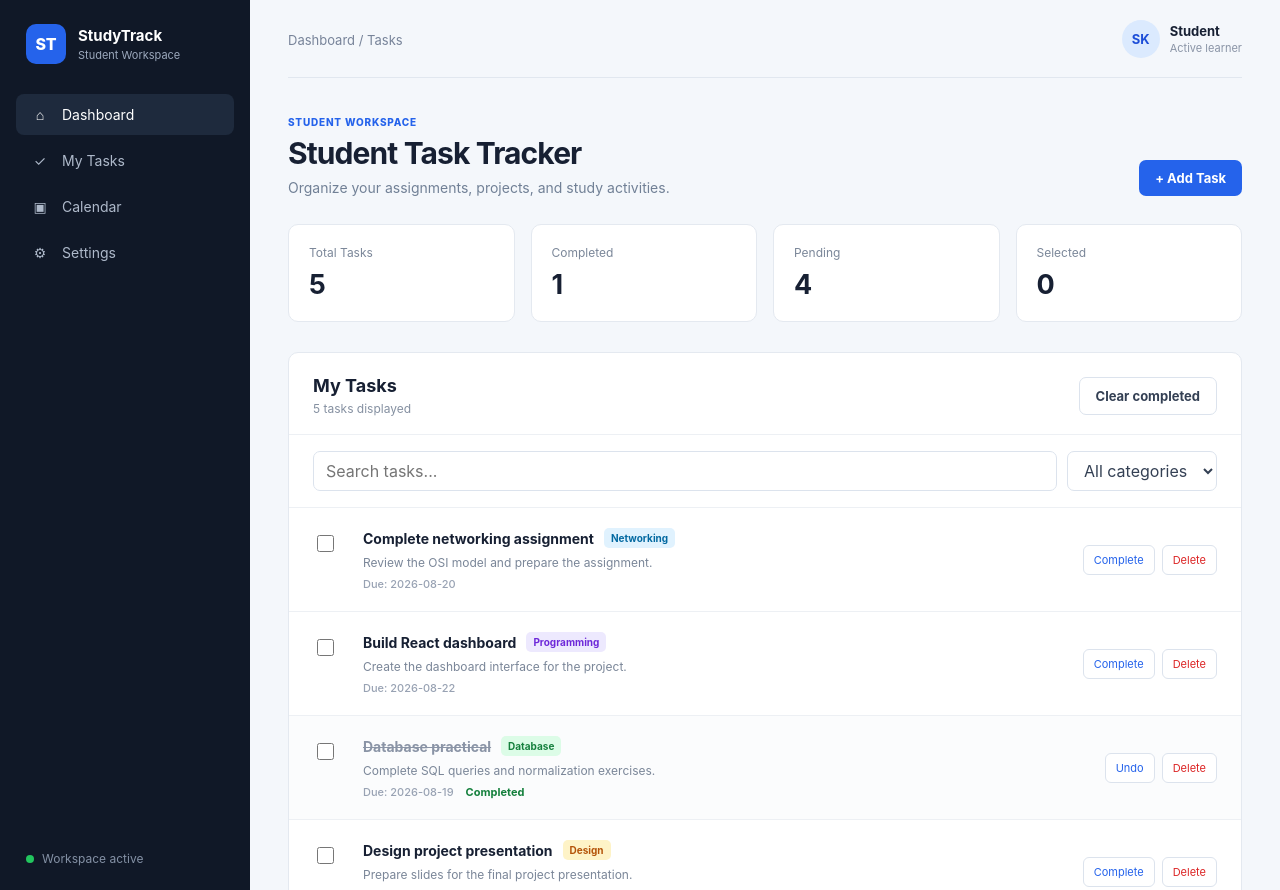
Test: Student Task Tracker › selection persists after clearing a filter
Click the checkbox named "Select Complete networking assignment": {"x": 326, "y": 544} x1=317 y1=535 x2=334 y2=552
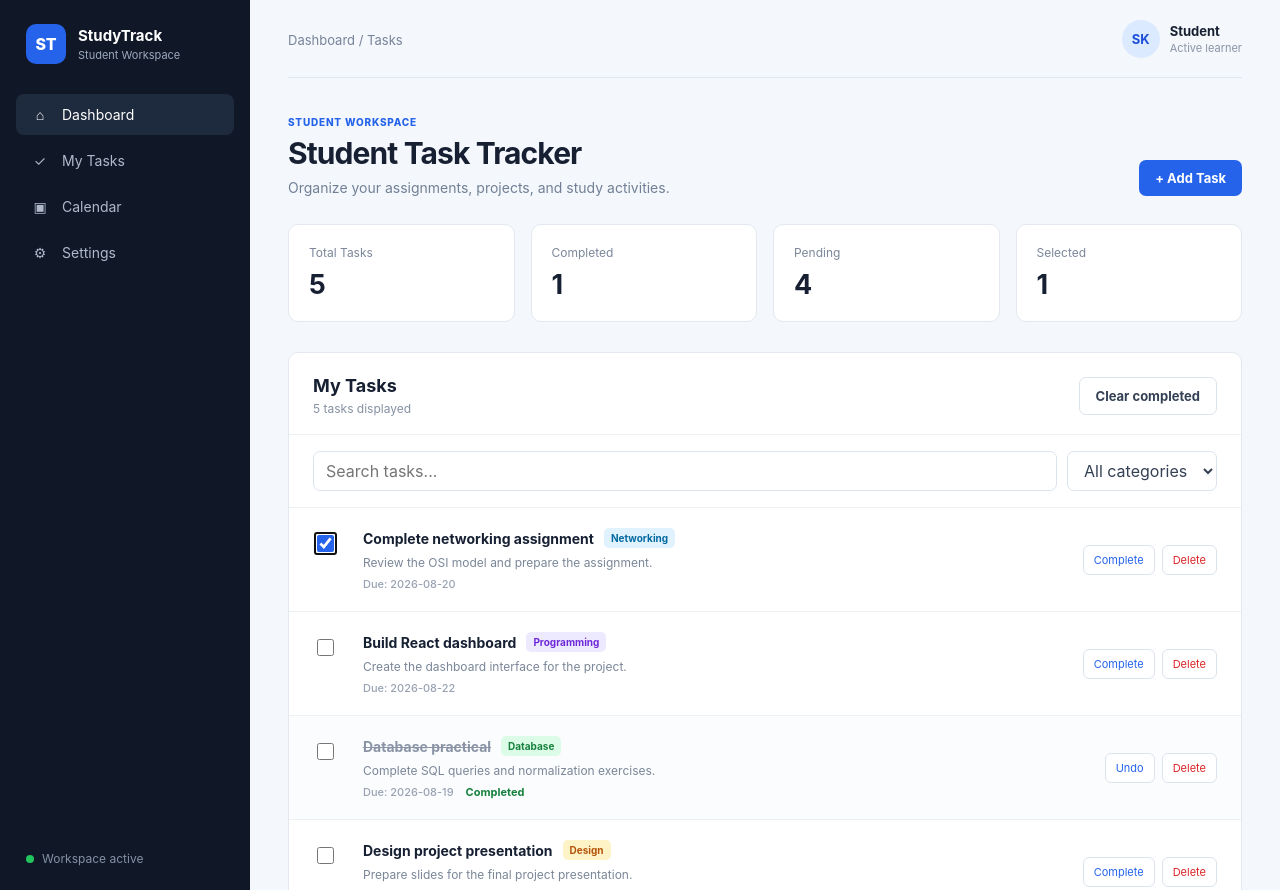
Check: the checkbox named "Select Complete networking assignment" is checked, box x1=317 y1=535 x2=334 y2=552
In the search field labelled "Search tasks": {"x": 685, "y": 471} x1=313 y1=451 x2=1057 y2=491, type "database"
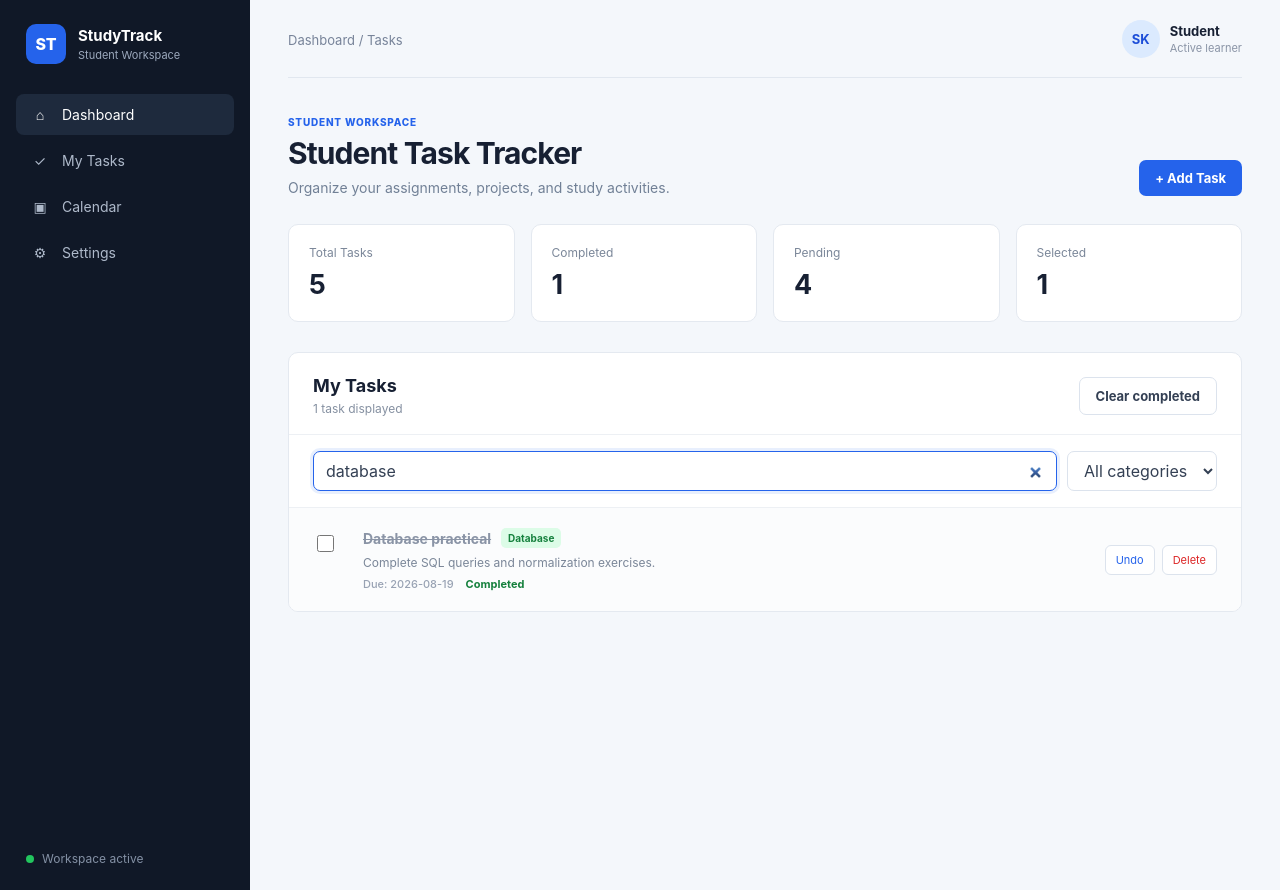
Check: the heading "Complete networking assignment" is gone
Clear the search field named "Search tasks": {"x": 685, "y": 471} x1=313 y1=451 x2=1057 y2=491
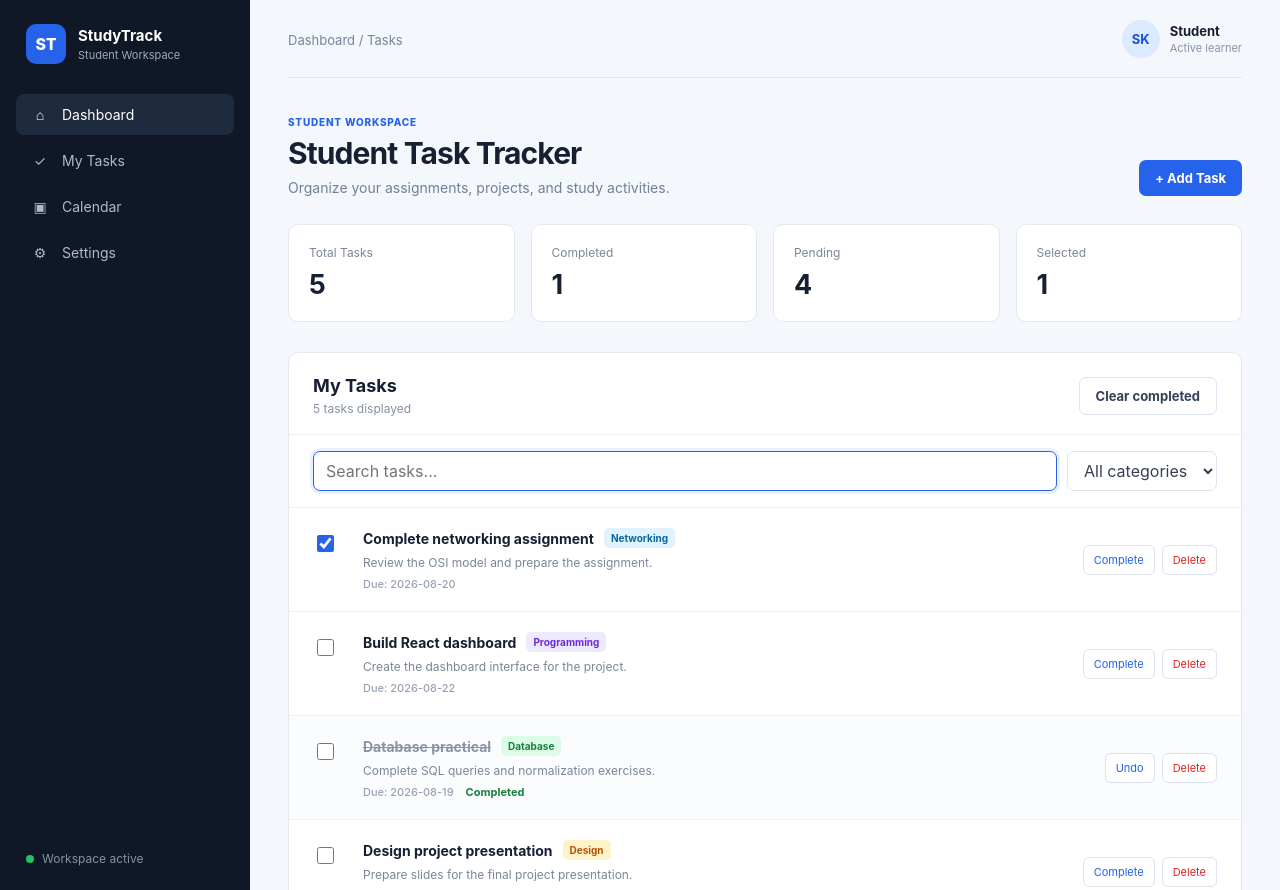
Check: the checkbox named "Select Complete networking assignment" is checked, box x1=317 y1=535 x2=334 y2=552
